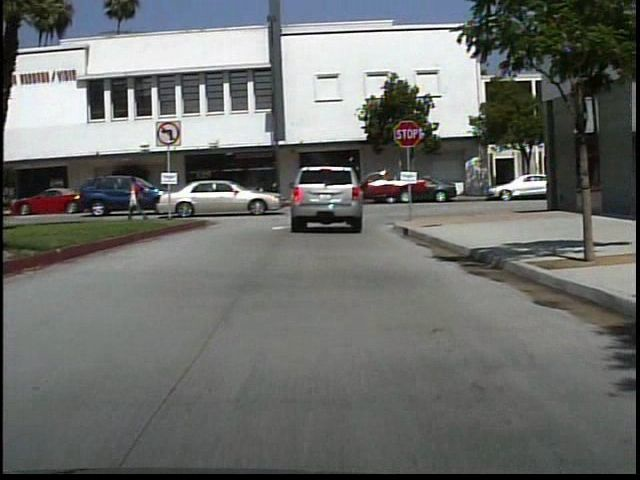person: (323, 167, 351, 229), (123, 173, 156, 223), (205, 174, 222, 206)
